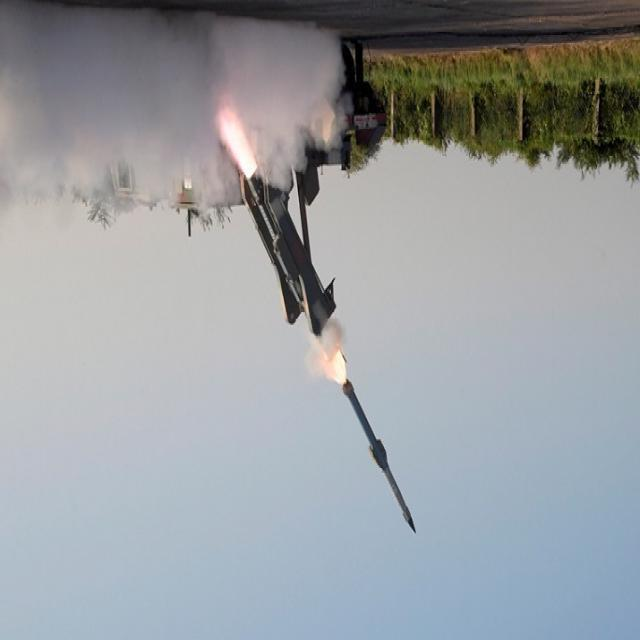missile: (341, 374, 420, 535)
